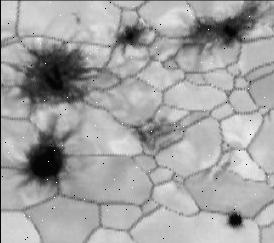good_void: (13, 38, 103, 121), (180, 0, 264, 56), (15, 115, 73, 193), (113, 18, 152, 57), (130, 118, 175, 149), (226, 211, 243, 230), (75, 17, 80, 25), (225, 143, 229, 147)
